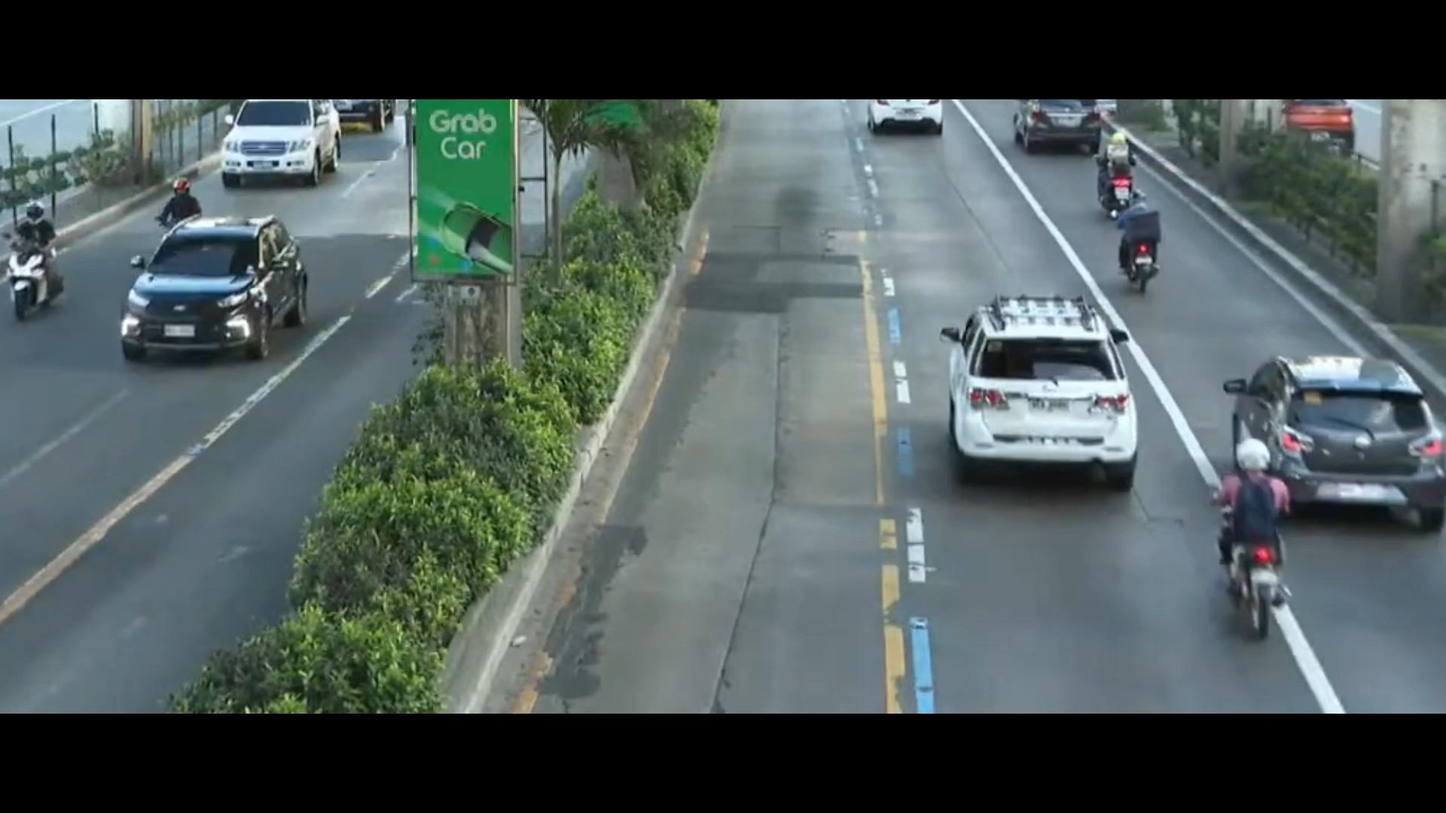Motorcycle: (1193, 437, 1317, 637), (0, 191, 91, 346), (1102, 194, 1188, 298), (1078, 116, 1155, 216), (155, 181, 214, 232)
SUV: (914, 274, 1158, 493), (1221, 334, 1446, 529), (113, 214, 322, 376), (219, 103, 342, 191)
